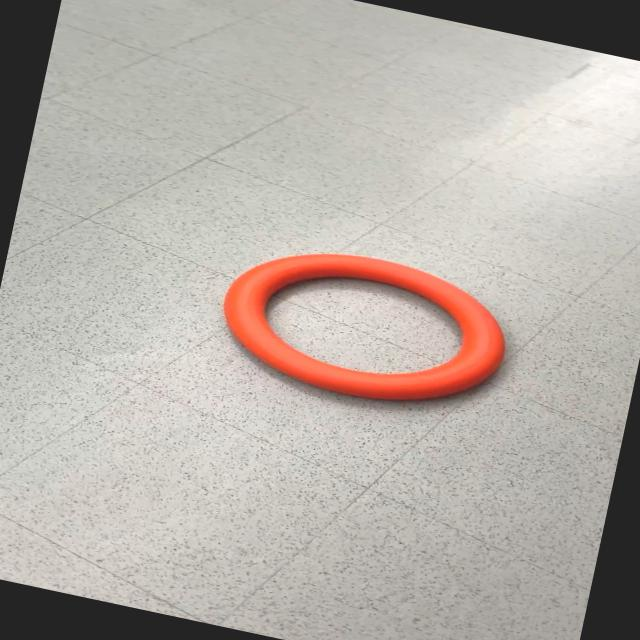note: (208, 228, 520, 426)
